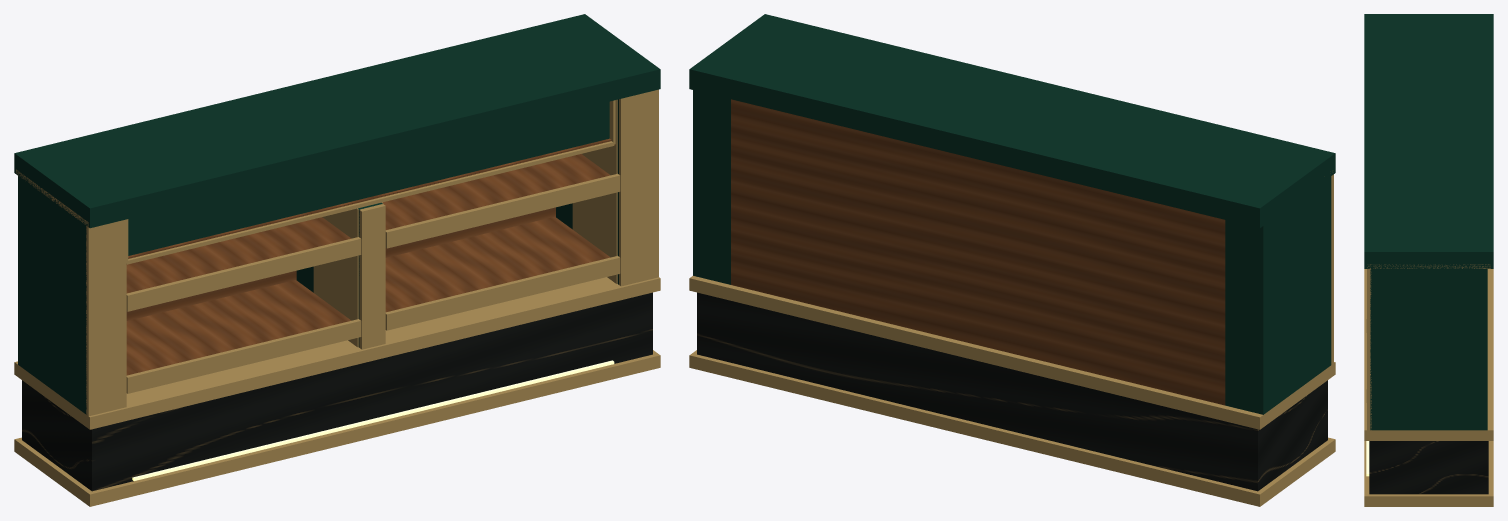
The picture shows the model from 3 angles, left to right: view 1: azimuth 30°, elevation 25°; view 2: azimuth 150°, elevation 25°; view 3: azimuth 270°, elevation 25°; orthographic projection. The views are drawn at different scales.
Parts seen in each view (by area): view 1: cabinet_crown, cabinet_stone_base, brand_header_panel, trim_base_top, cabinet_left_pillar, shelf_1_right, shelf_1_left, trim_base_plinth, trim_left_front, trim_right_front, shelf_2_right, shelf_2_left (+11 smaller); view 2: cabinet_back, cabinet_crown, cabinet_stone_base, cabinet_left_pillar, trim_base_top, trim_base_plinth, cabinet_right_pillar; view 3: cabinet_crown, cabinet_right_pillar, cabinet_stone_base, trim_base_top, trim_base_plinth, trim_right_front, trim_crown_lip.
Boxes of the visible parts, x1=… form: cabinet_crown: x1=14, y1=14, x2=660, y2=228; cabinet_stone_base: x1=22, y1=292, x2=652, y2=491; brand_header_panel: x1=128, y1=101, x2=609, y2=255; trim_base_top: x1=14, y1=277, x2=660, y2=429; cabinet_left_pillar: x1=18, y1=176, x2=86, y2=414; shelf_1_right: x1=385, y1=216, x2=610, y2=312; shelf_1_left: x1=126, y1=280, x2=351, y2=375; trim_base_plinth: x1=14, y1=350, x2=660, y2=506; trim_left_front: x1=86, y1=219, x2=126, y2=416; trim_right_front: x1=619, y1=89, x2=658, y2=286; shelf_2_right: x1=382, y1=154, x2=610, y2=229; shelf_2_left: x1=126, y1=217, x2=351, y2=293; cabinet_back: x1=731, y1=99, x2=1225, y2=405; cabinet_crown: x1=689, y1=14, x2=1335, y2=228; cabinet_stone_base: x1=697, y1=292, x2=1327, y2=491; cabinet_left_pillar: x1=1225, y1=176, x2=1331, y2=414; trim_base_top: x1=689, y1=276, x2=1335, y2=429; trim_base_plinth: x1=689, y1=350, x2=1335, y2=506; cabinet_right_pillar: x1=693, y1=90, x2=730, y2=284; cabinet_crown: x1=1364, y1=14, x2=1493, y2=268; cabinet_right_pillar: x1=1370, y1=269, x2=1487, y2=430; cabinet_stone_base: x1=1369, y1=441, x2=1488, y2=494; trim_base_top: x1=1364, y1=269, x2=1493, y2=440; trim_base_plinth: x1=1364, y1=441, x2=1493, y2=506; trim_right_front: x1=1367, y1=269, x2=1371, y2=430; trim_crown_lip: x1=1367, y1=264, x2=1490, y2=268.
Bounding box in the file's own units: 2.4 × 1.2 × 0.55.
5 materials, 2 textured.
